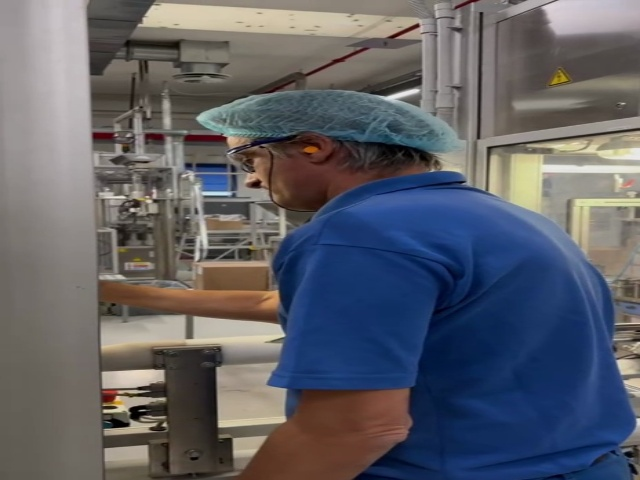Earplug: (295, 136, 337, 162)
Hairnet: (213, 92, 448, 138)
No_Helmet: (199, 86, 449, 144)
No_Vest: (283, 196, 631, 480)
Person: (196, 88, 614, 480)
Safety_Goggles: (224, 137, 300, 171)
